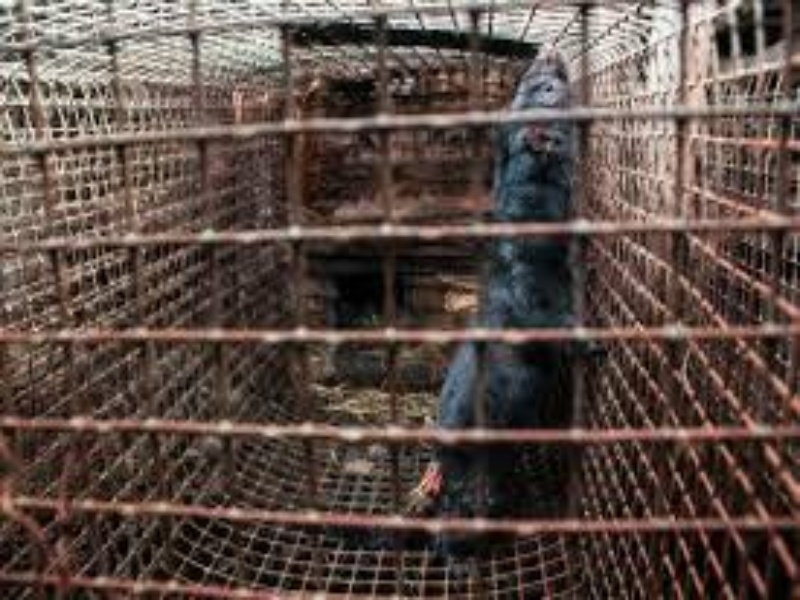minkish: (403, 33, 586, 528)
